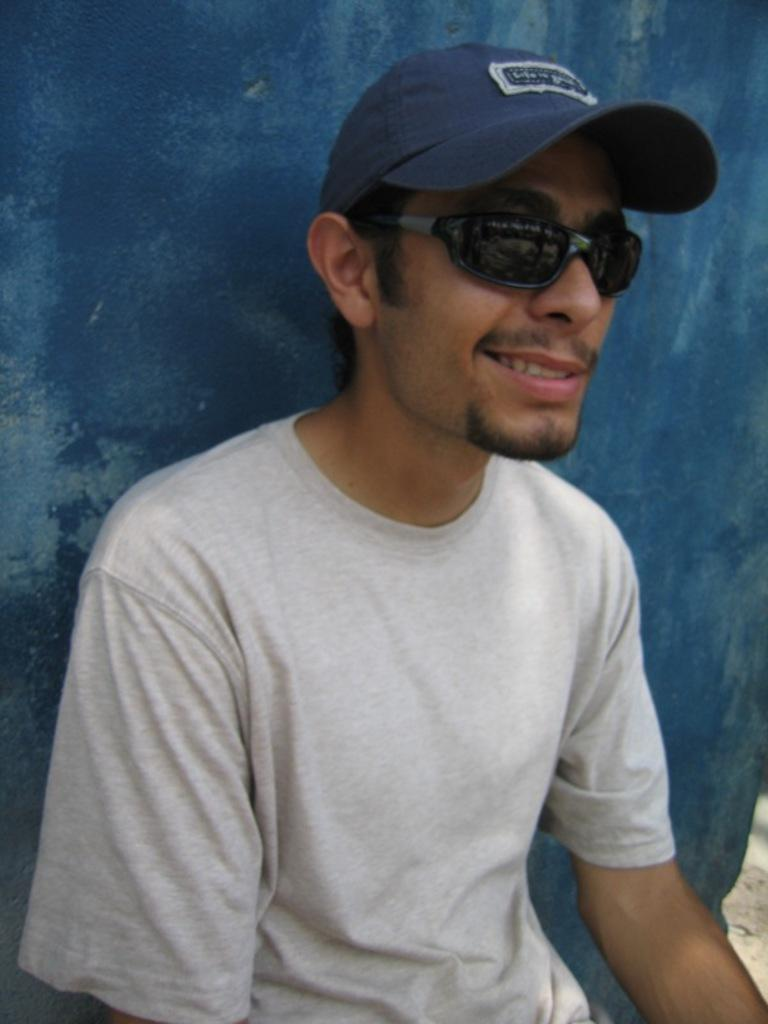Hat: (314, 44, 716, 218)
